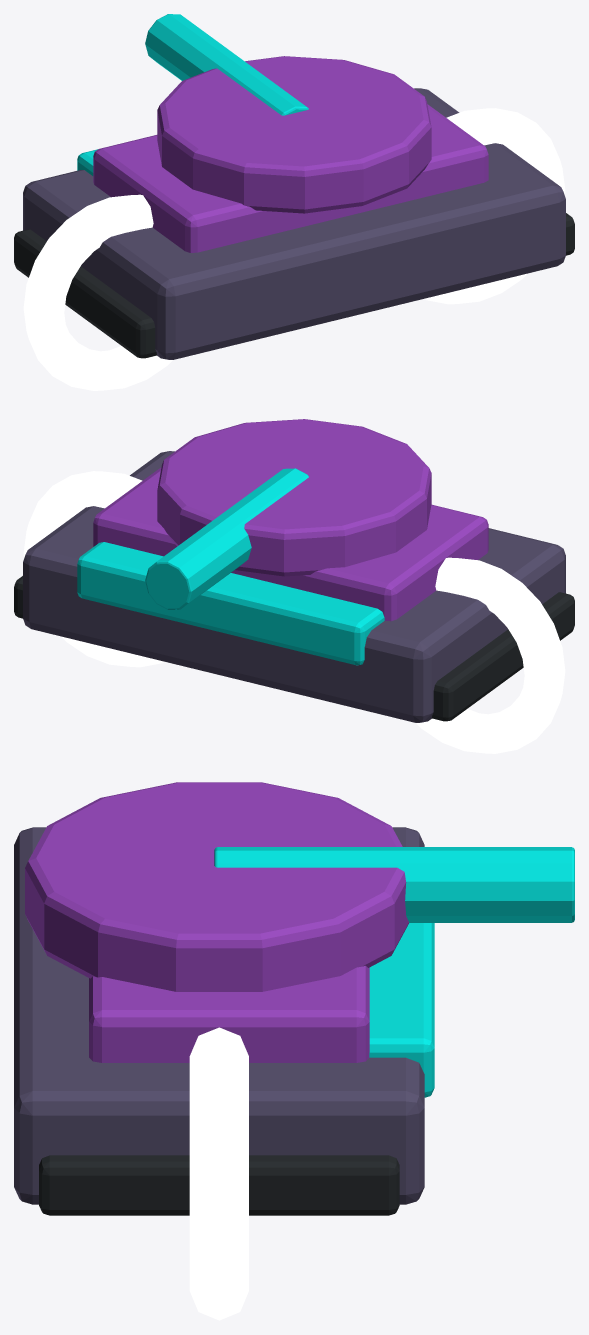
File: SM_Chronolegion_CH_TimelineTank.fbx
The picture shows the model from 3 angles, top to bottom: view 1: azimuth 30°, elevation 25°; view 2: azimuth 150°, elevation 25°; view 3: azimuth 270°, elevation 25°; orthographic projection. The views are drawn at different scales.
Visible parts, largest first — view 1: SM_Chronolegion_CH_TimelineTank, SM_Chronolegion_CH_TimelineTank_Turret, SM_Chronolegion_CH_TimelineTank_UpperHull, SM_Chronolegion_CH_TimelineTank_HoverRing_-1, SM_Chronolegion_CH_TimelineTank_Barrel, SM_Chronolegion_CH_TimelineTank_HoverPod_-1, SM_Chronolegion_CH_TimelineTank_HoverRing_+1; view 2: SM_Chronolegion_CH_TimelineTank, SM_Chronolegion_CH_TimelineTank_Turret, SM_Chronolegion_CH_TimelineTank_Glacis, SM_Chronolegion_CH_TimelineTank_UpperHull, SM_Chronolegion_CH_TimelineTank_HoverRing_-1, SM_Chronolegion_CH_TimelineTank_Barrel, SM_Chronolegion_CH_TimelineTank_HoverPod_-1, SM_Chronolegion_CH_TimelineTank_HoverRing_+1; view 3: SM_Chronolegion_CH_TimelineTank_Turret, SM_Chronolegion_CH_TimelineTank, SM_Chronolegion_CH_TimelineTank_UpperHull, SM_Chronolegion_CH_TimelineTank_HoverPod_+1, SM_Chronolegion_CH_TimelineTank_Barrel, SM_Chronolegion_CH_TimelineTank_HoverRing_+1, SM_Chronolegion_CH_TimelineTank_Glacis.
Boxes of the visible parts, box(x1,y1,x2,y2) form: SM_Chronolegion_CH_TimelineTank: box(23, 88, 565, 359); SM_Chronolegion_CH_TimelineTank_Turret: box(157, 56, 431, 213); SM_Chronolegion_CH_TimelineTank_UpperHull: box(93, 104, 488, 252); SM_Chronolegion_CH_TimelineTank_HoverRing_-1: box(23, 194, 172, 390); SM_Chronolegion_CH_TimelineTank_Barrel: box(145, 14, 308, 115); SM_Chronolegion_CH_TimelineTank_HoverPod_-1: box(14, 229, 156, 358); SM_Chronolegion_CH_TimelineTank_HoverRing_+1: box(424, 108, 565, 304); SM_Chronolegion_CH_TimelineTank: box(23, 451, 565, 722); SM_Chronolegion_CH_TimelineTank_Turret: box(157, 419, 431, 576); SM_Chronolegion_CH_TimelineTank_Glacis: box(77, 542, 384, 665); SM_Chronolegion_CH_TimelineTank_UpperHull: box(93, 467, 488, 621); SM_Chronolegion_CH_TimelineTank_HoverRing_-1: box(416, 557, 565, 753); SM_Chronolegion_CH_TimelineTank_Barrel: box(145, 468, 308, 609); SM_Chronolegion_CH_TimelineTank_HoverPod_-1: box(432, 592, 574, 721); SM_Chronolegion_CH_TimelineTank_HoverRing_+1: box(23, 471, 164, 667); SM_Chronolegion_CH_TimelineTank_Turret: box(25, 782, 408, 991); SM_Chronolegion_CH_TimelineTank: box(14, 827, 424, 1204); SM_Chronolegion_CH_TimelineTank_UpperHull: box(89, 965, 369, 1062); SM_Chronolegion_CH_TimelineTank_HoverPod_+1: box(39, 1155, 399, 1215); SM_Chronolegion_CH_TimelineTank_Barrel: box(214, 847, 574, 922); SM_Chronolegion_CH_TimelineTank_HoverRing_+1: box(189, 1027, 248, 1320); SM_Chronolegion_CH_TimelineTank_Glacis: box(369, 923, 434, 1097).
Size of what is drawn, in the model's own units: 556 by 358 by 236.
